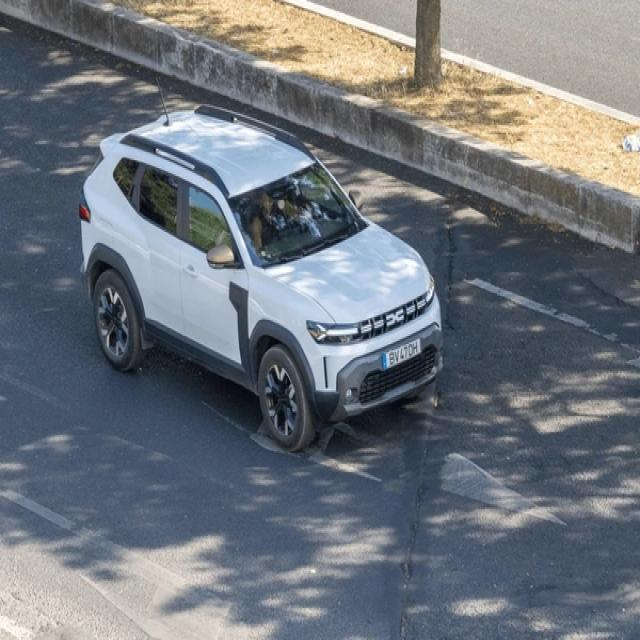dacia: (385, 306, 405, 328)
